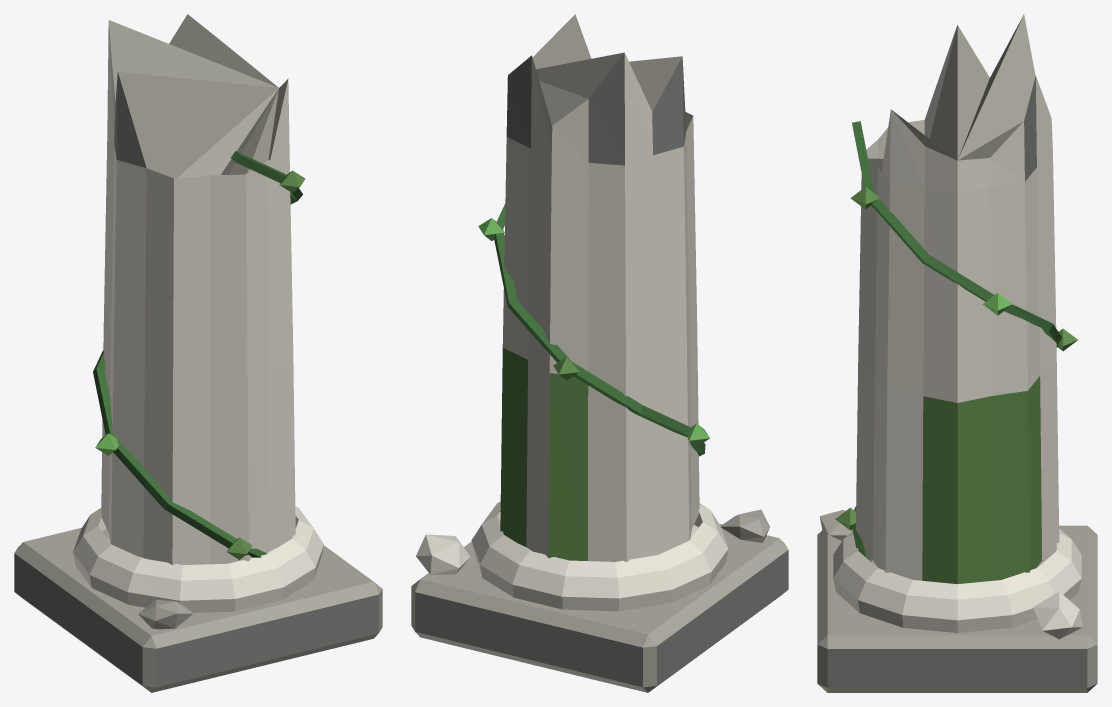
File: RuinColumn.obj
3 renders of one model, left to right at view 1: azimuth 30°, elevation 25°; view 2: azimuth 150°, elevation 25°; view 3: azimuth 270°, elevation 25°, orthographic. The views are drawn at different scales.
Bounding box in the file's own units: 2.3 × 5.16 × 2.2.
